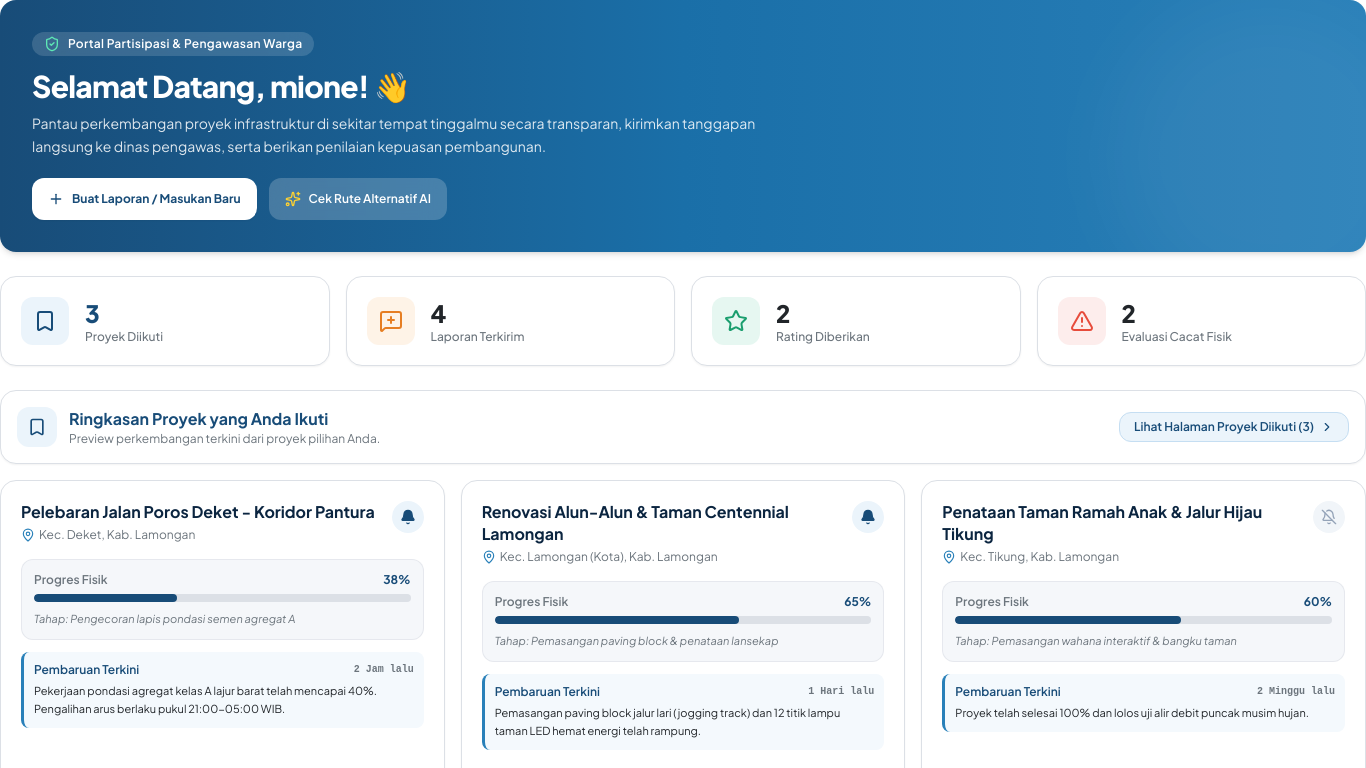
Test: WargaDashboard › closes modal when Batal button or Escape key is pressed
The width and height of the screenshot is (1366, 768).
# Open modal
Click the button "Buat Laporan / Masukan Baru".
click(144, 198)  # box top-left (32, 178), bottom-right (257, 220)
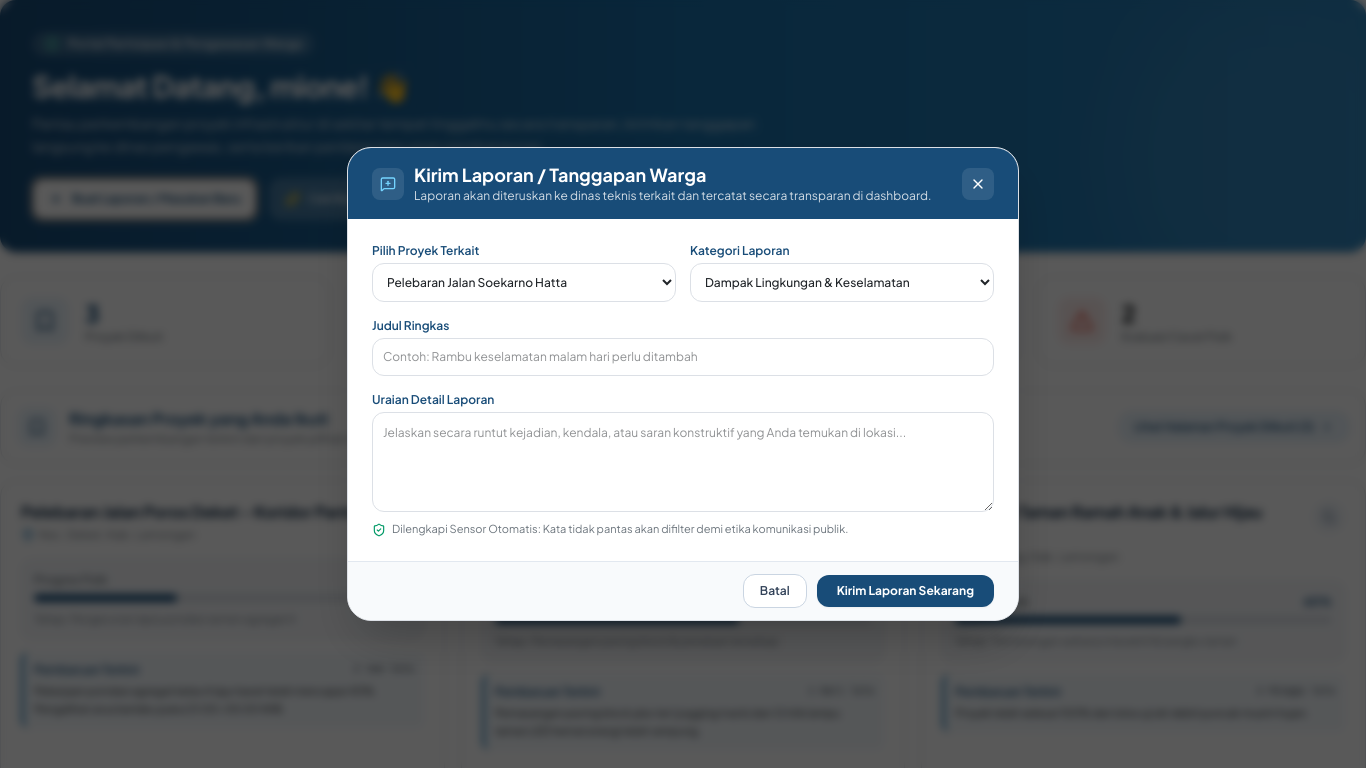
expect the dialog is shown: met
# Close via Batal button
Click the button "Batal".
click(775, 591)  # box top-left (743, 574), bottom-right (807, 608)
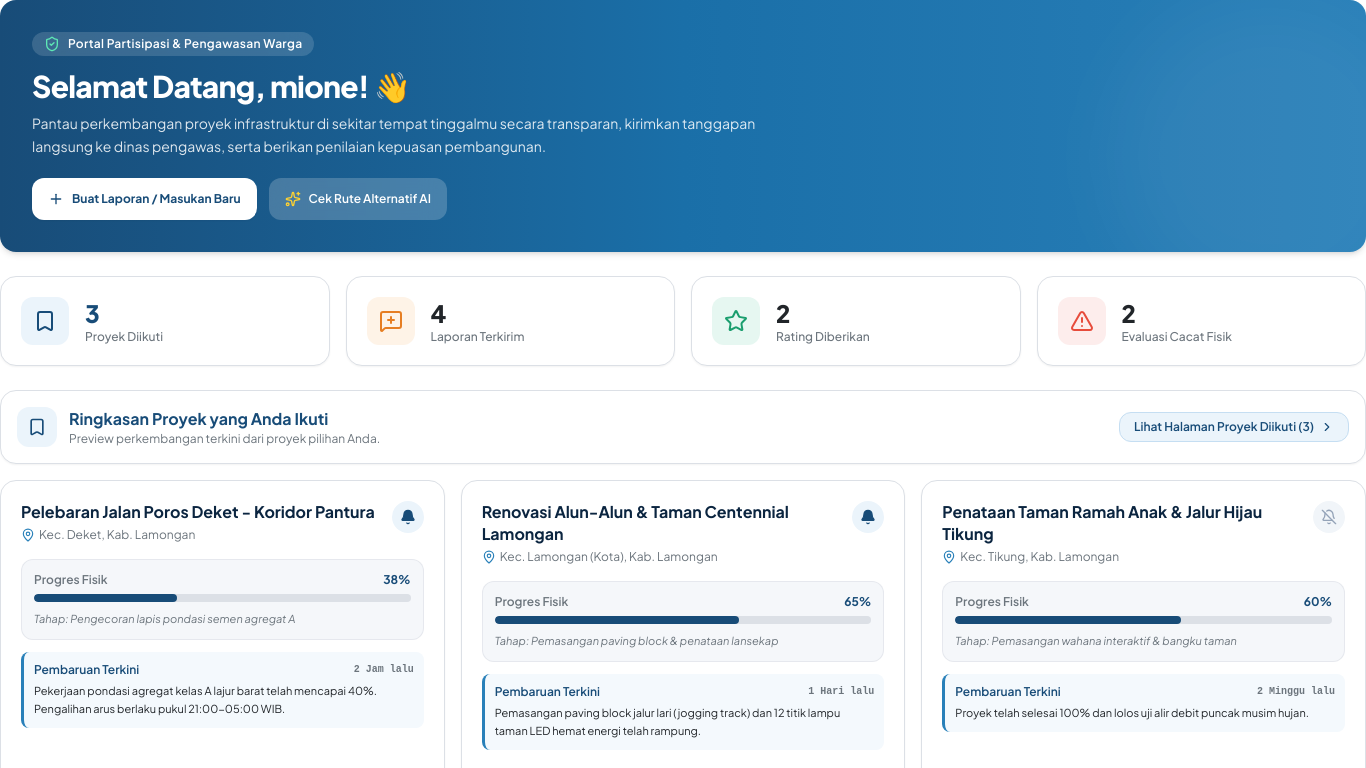
expect the dialog is gone: met
# Reopen modal and test Escape key
Click the button "Buat Laporan / Masukan Baru".
click(144, 198)  # box top-left (32, 178), bottom-right (257, 220)
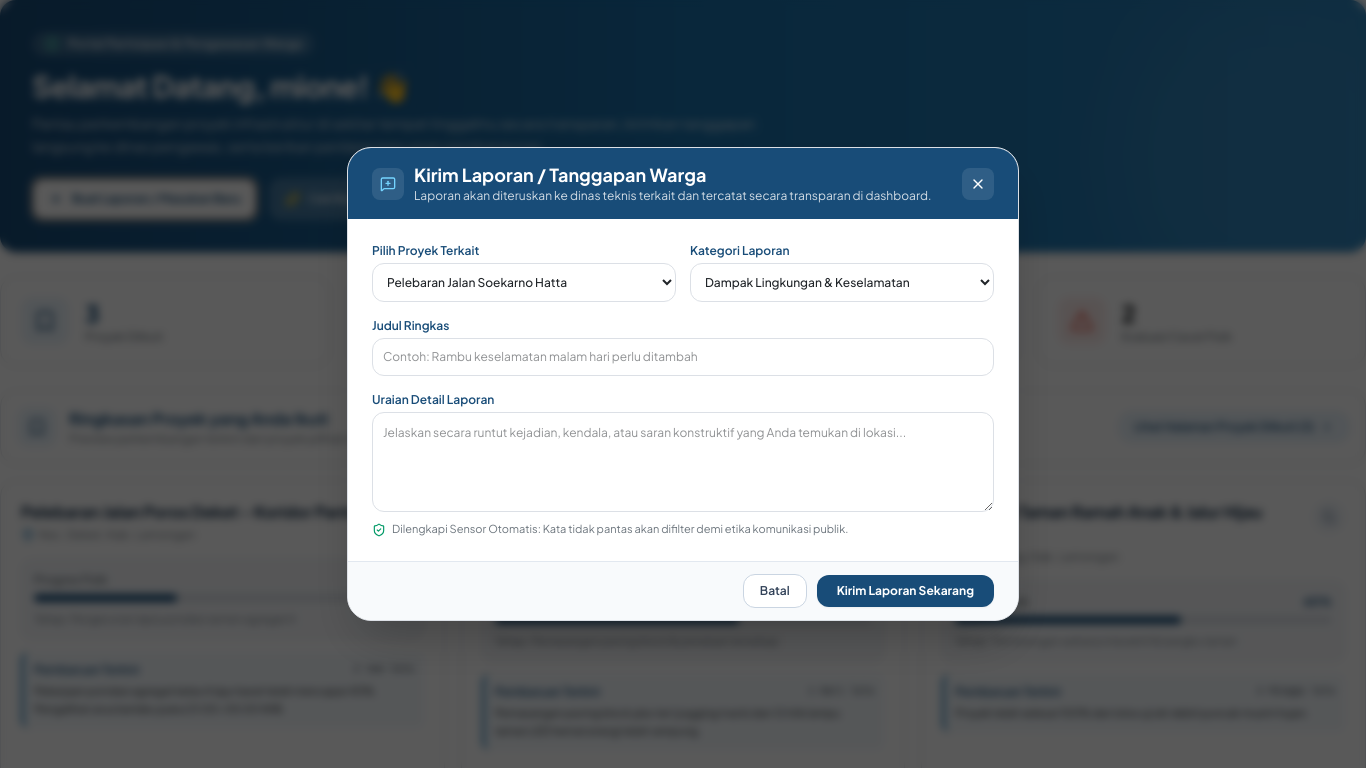
expect the dialog is shown: met
Press Escape
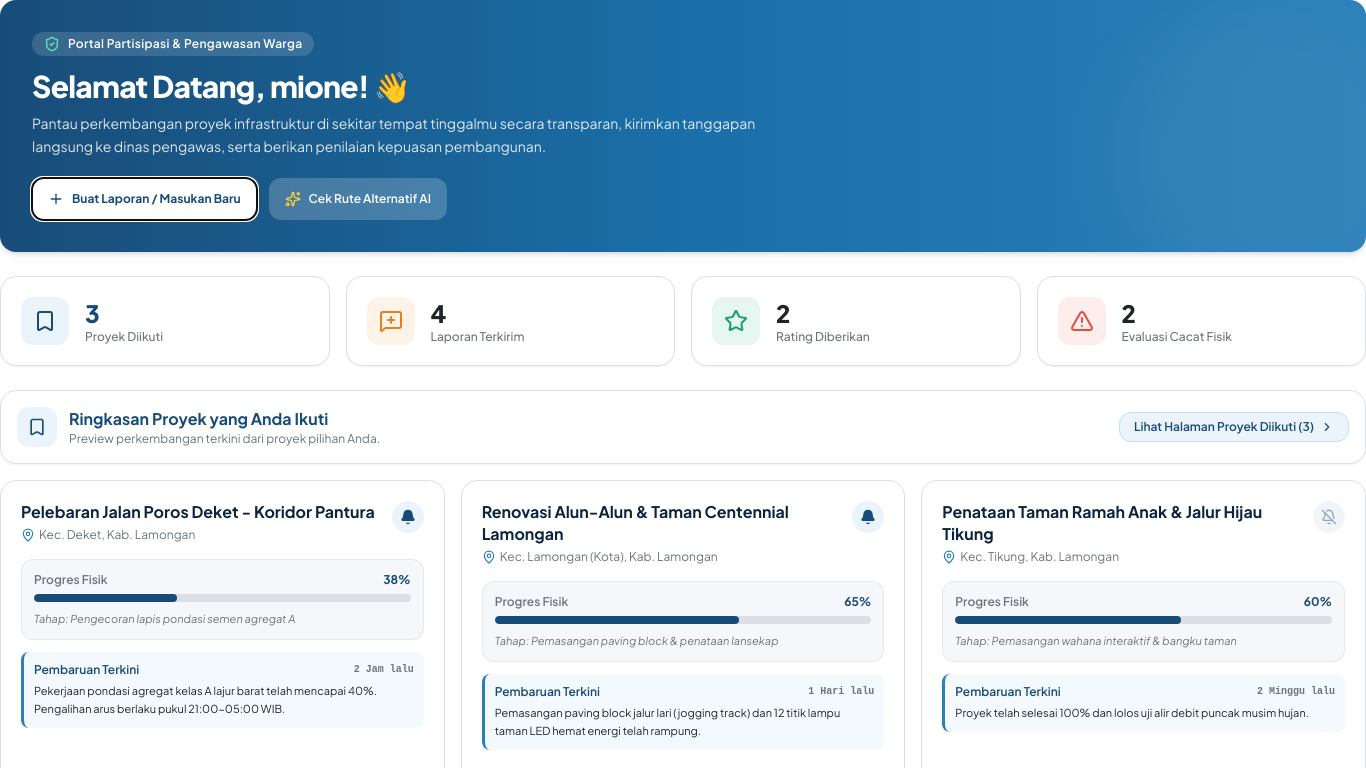
expect the dialog is gone: met
